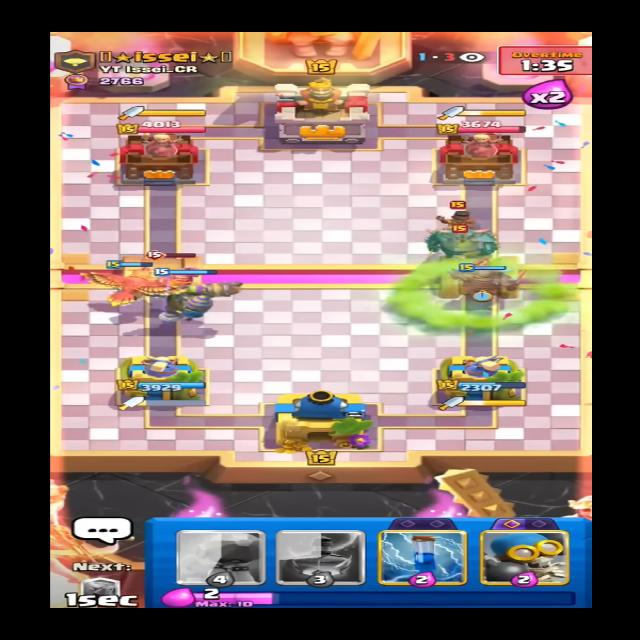evo-knight: (148, 251, 197, 291)
pekka: (419, 221, 502, 257)
ram-rider: (429, 199, 489, 236)
